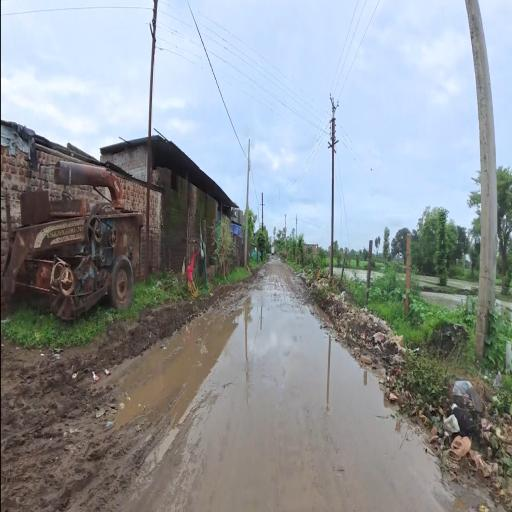drainage_issue: (107, 296, 452, 505)
